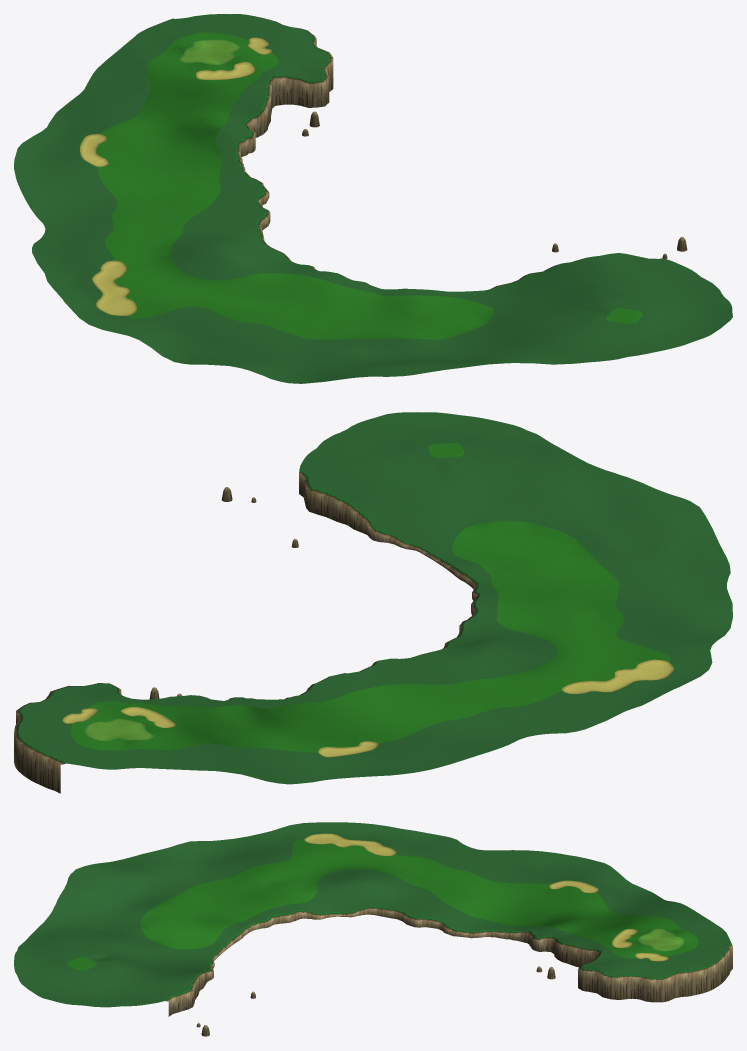
Rendered from glf_map_fc5__glf_map_fc5.glb.
The picture shows the model from 3 angles, top to bottom: view 1: azimuth 30°, elevation 25°; view 2: azimuth 150°, elevation 25°; view 3: azimuth 270°, elevation 25°; orthographic projection. The views are drawn at different scales.
Parts seen in each view (by area): view 1: polygon10, polygon2, polygon4, polygon0, polygon3; view 2: polygon10, polygon2, polygon4, polygon0, polygon3; view 3: polygon10, polygon2, polygon4, polygon0, polygon3.
Boxes of the visible parts, bbox=[...] form: polygon10: bbox=[14, 14, 732, 383]; polygon2: bbox=[96, 32, 642, 339]; polygon4: bbox=[236, 16, 687, 289]; polygon0: bbox=[80, 37, 271, 315]; polygon3: bbox=[182, 40, 237, 63]; polygon10: bbox=[18, 412, 732, 784]; polygon2: bbox=[71, 443, 670, 752]; polygon4: bbox=[14, 470, 480, 793]; polygon0: bbox=[62, 659, 673, 757]; polygon3: bbox=[87, 719, 151, 740]; polygon10: bbox=[14, 822, 731, 1007]; polygon2: bbox=[67, 839, 698, 970]; polygon4: bbox=[165, 906, 732, 1036]; polygon0: bbox=[304, 833, 668, 961]; polygon3: bbox=[640, 929, 682, 950].
Size of what is drawn, in the model's own units: 2801 by 159 by 4117.
6 materials, 6 textured.
